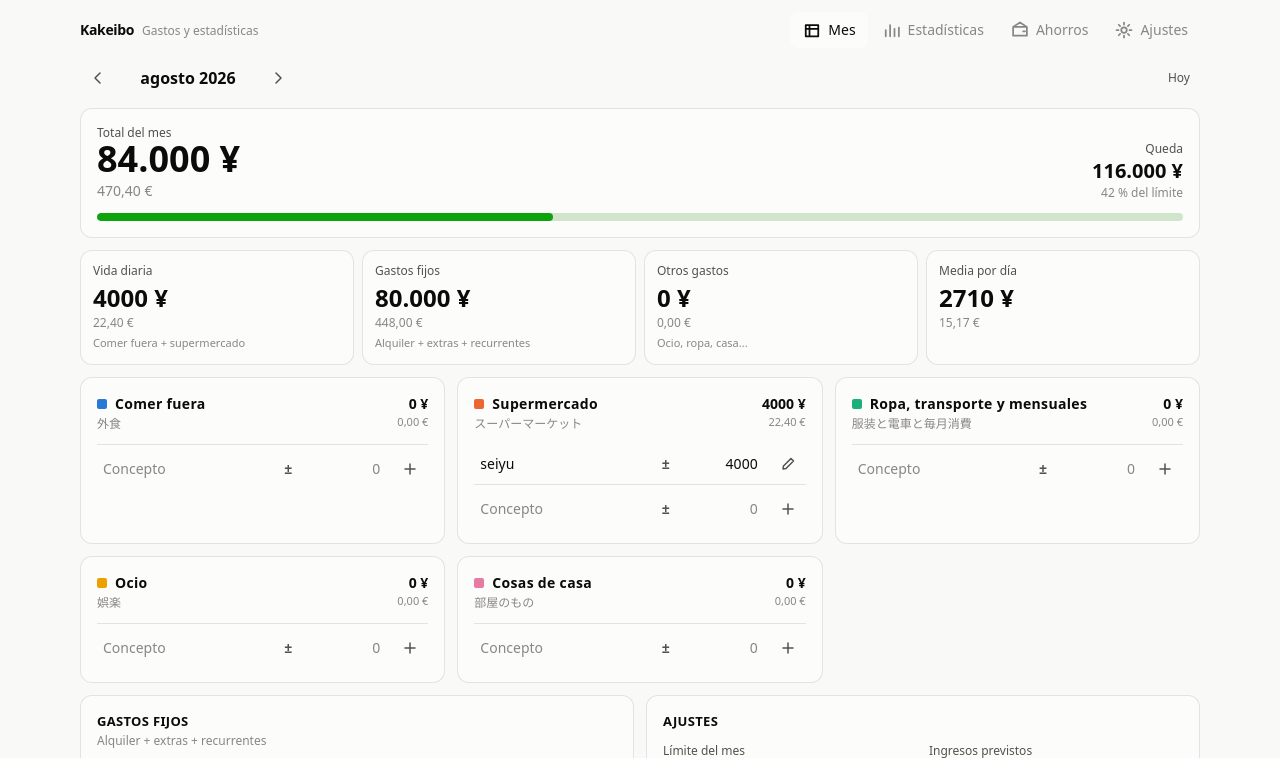
la aplicacion › cambia el idioma desde ajustes
Click the button "Ajustes" at [1151, 30], box [1102,12,1200,48]
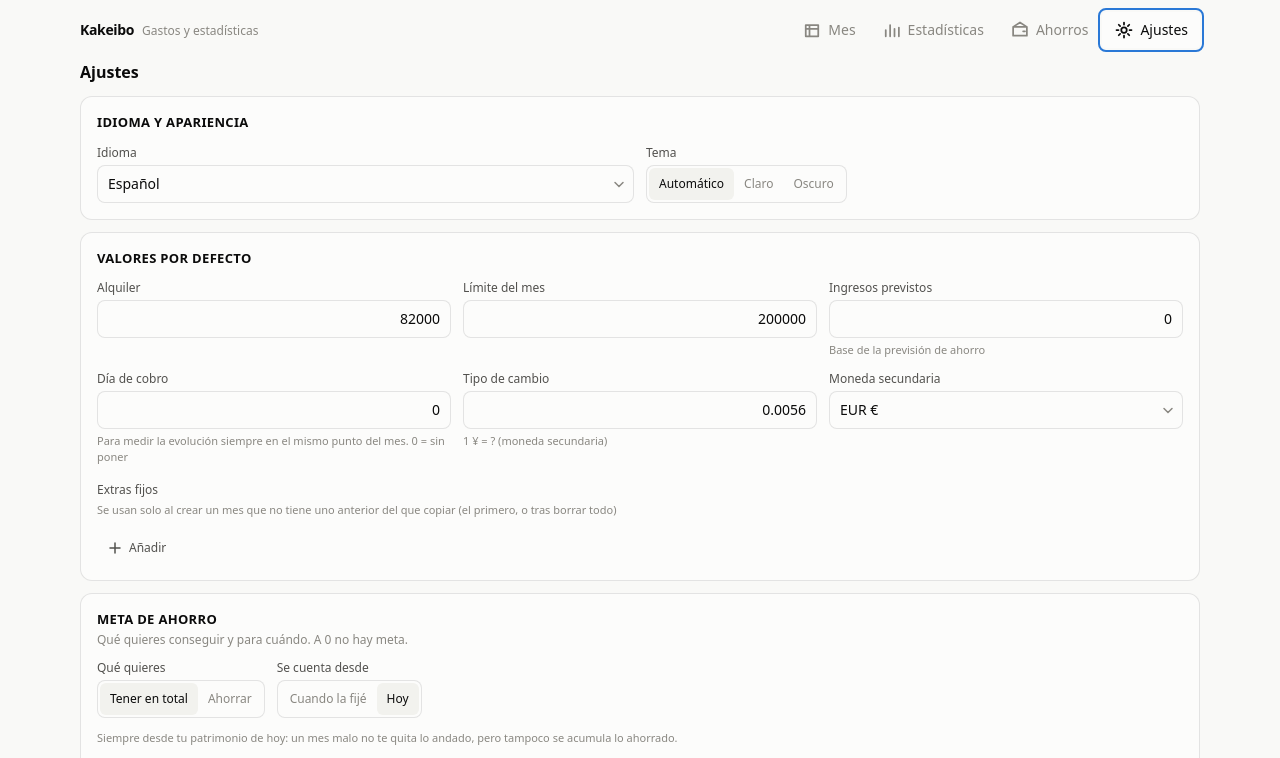
Select "日本語" in the dropdown labelled "Idioma" at [366, 184], box [97,164,634,202]
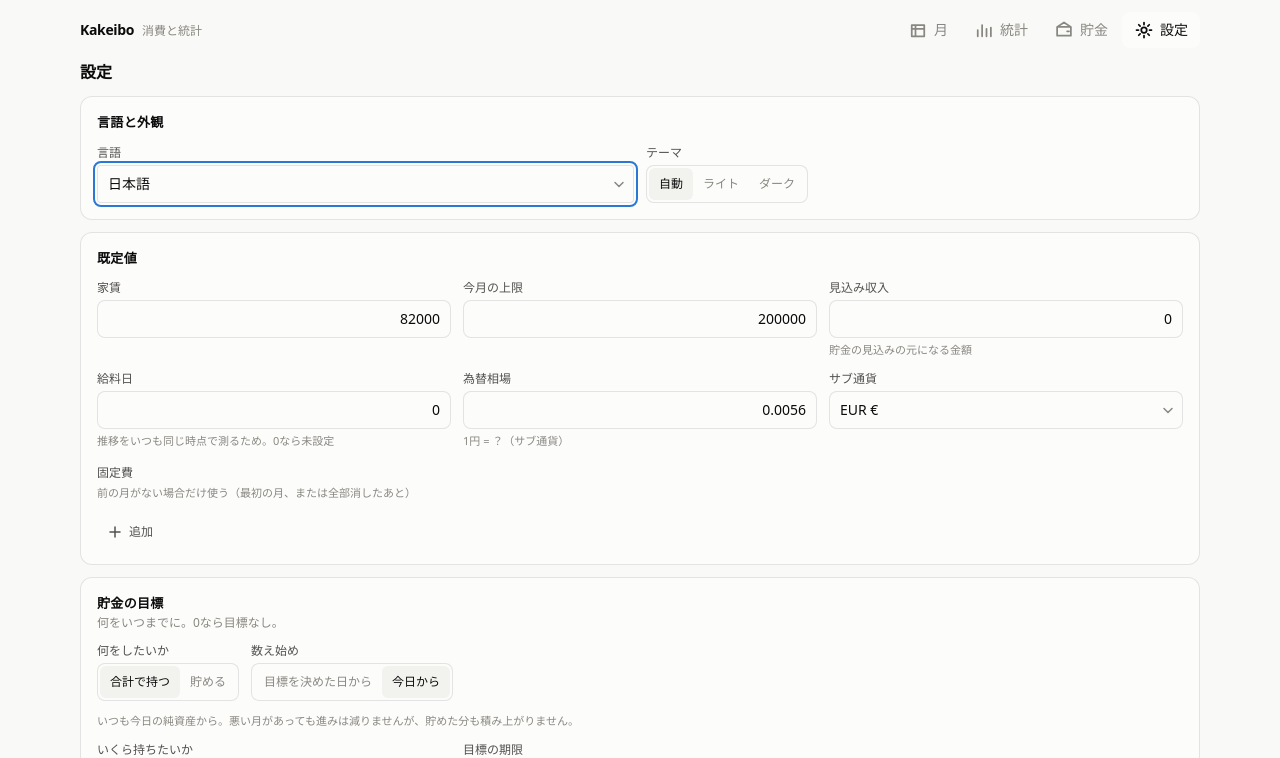
Check: the heading "設定" is shown, box [80,61,112,83]
